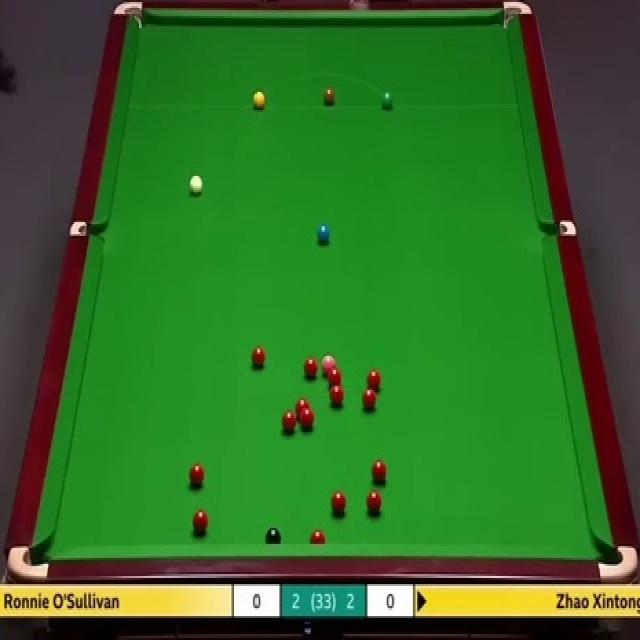black-ball: (266, 528, 282, 544)
blue-ball: (316, 225, 331, 242)
brown-ball: (324, 88, 335, 106)
green-ball: (380, 88, 395, 110)
pink-ball: (321, 354, 336, 374)
red-ball: (330, 492, 348, 516), (192, 511, 209, 534), (325, 366, 342, 389), (362, 387, 378, 410), (367, 490, 382, 514), (301, 358, 319, 378), (281, 409, 296, 433), (251, 343, 266, 366), (188, 464, 205, 484), (330, 385, 344, 409), (371, 460, 386, 482), (296, 398, 309, 418), (301, 408, 314, 428), (309, 529, 327, 543), (366, 371, 380, 388)
white-ball: (187, 175, 203, 194)
yellow-ball: (253, 90, 265, 110)
